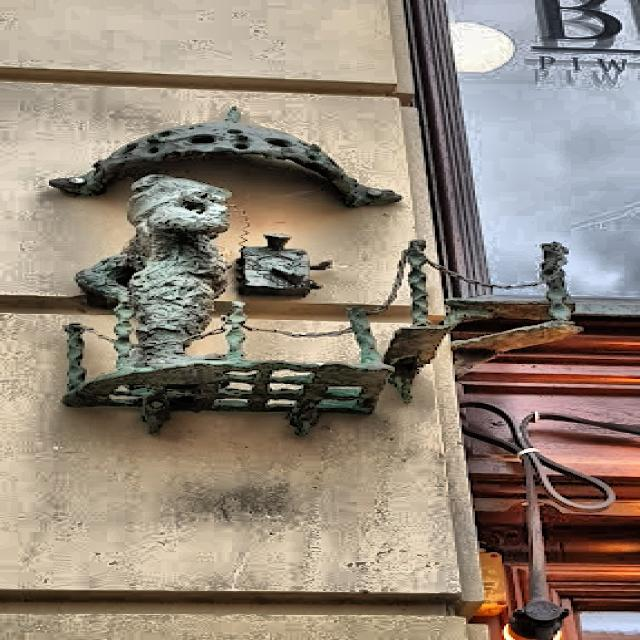Dryndek: (51, 109, 446, 434)
